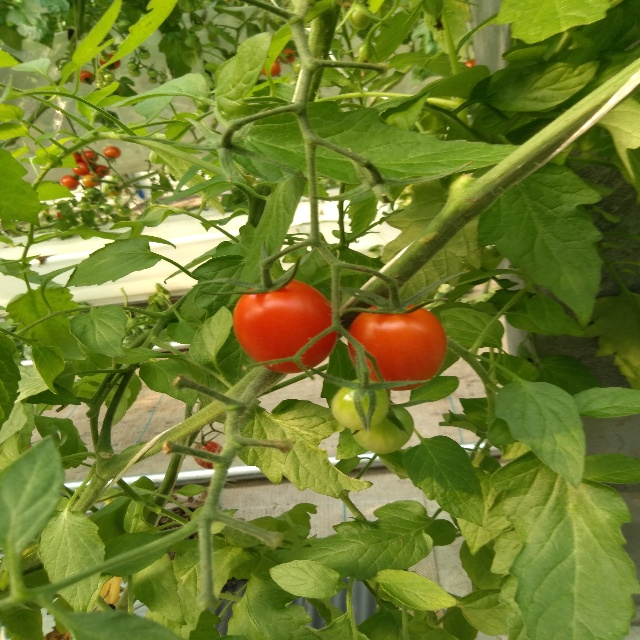l_fully_ripened: (233, 279, 338, 374), (345, 305, 447, 391)
l_green: (349, 402, 414, 454), (329, 378, 388, 432)
